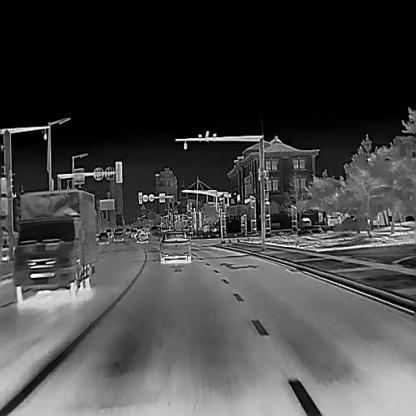car: (11, 187, 96, 297), (159, 229, 191, 263), (135, 229, 148, 243), (113, 228, 124, 242), (98, 232, 109, 244), (299, 217, 311, 227), (130, 228, 137, 238), (105, 229, 111, 237), (125, 227, 130, 235)
